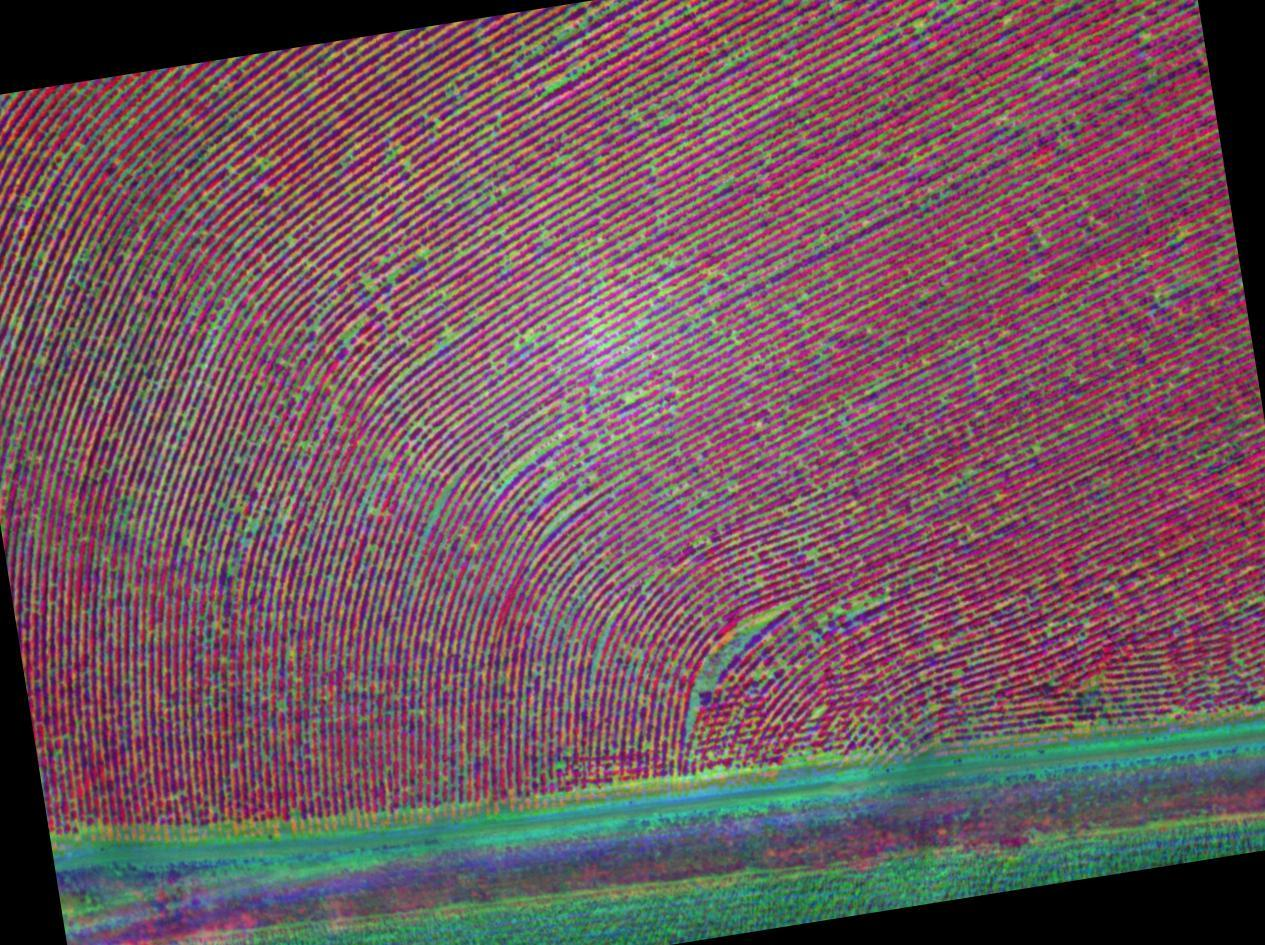dc: (536, 13, 687, 124), (378, 353, 515, 451), (68, 415, 160, 526), (83, 190, 164, 277), (693, 603, 760, 681)
